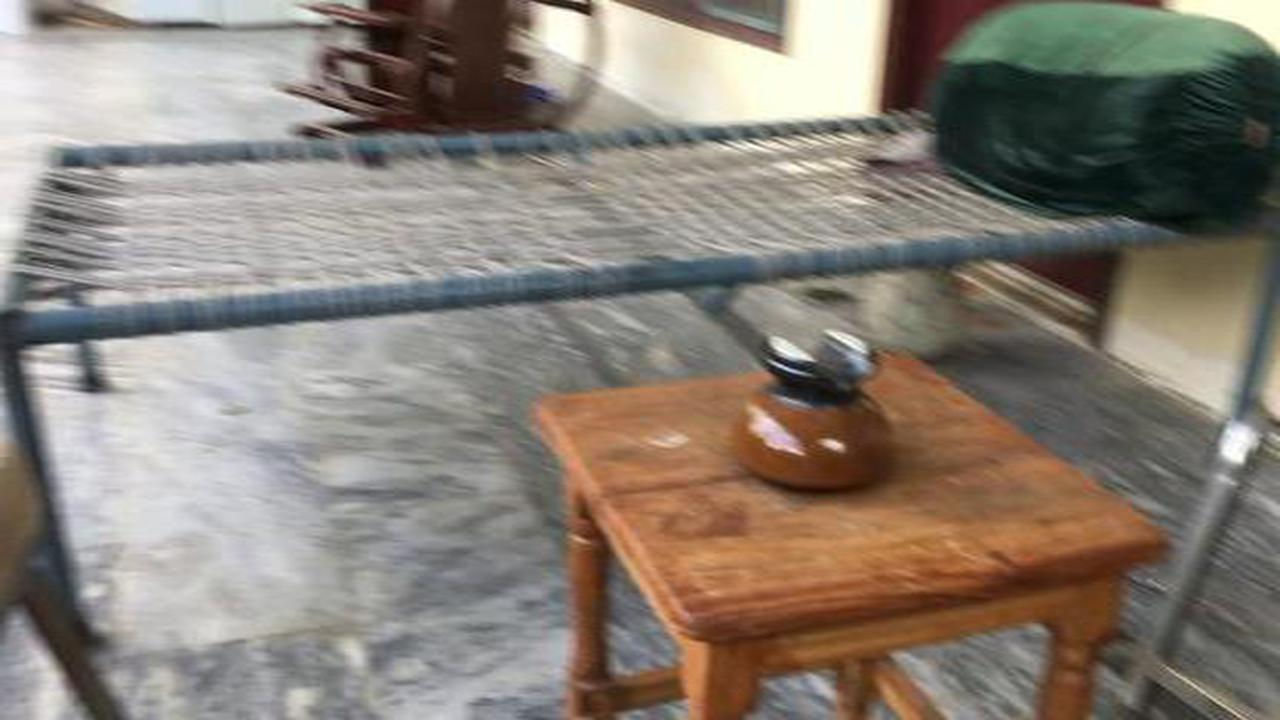insulator_pin: (717, 310, 927, 509)
